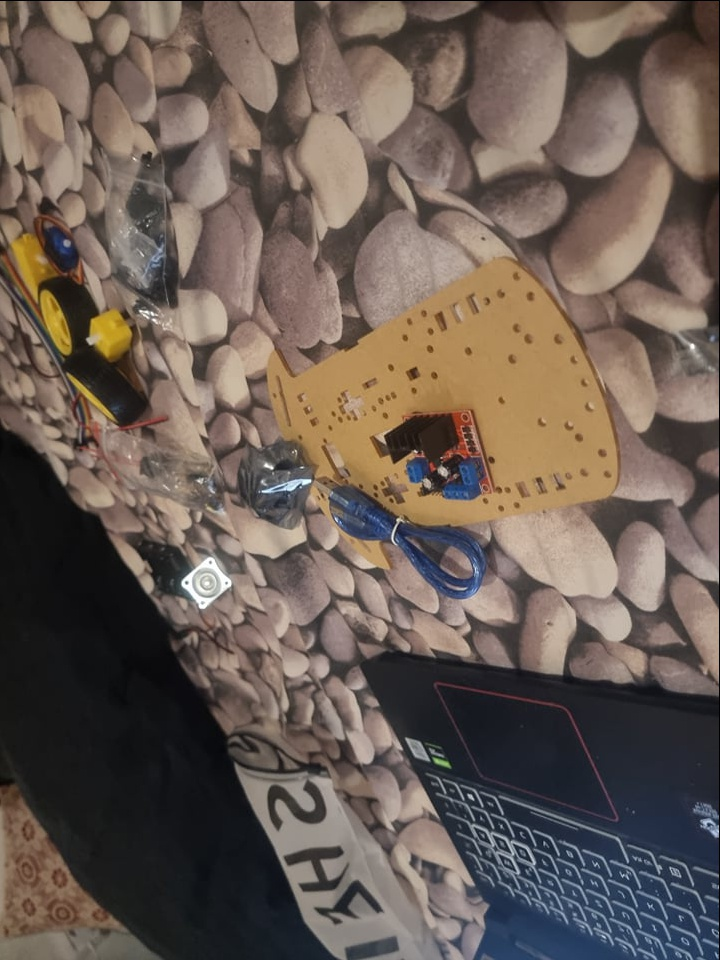BATTERY BOX: (132, 535, 187, 599)
MOTOR: (382, 403, 499, 499)
